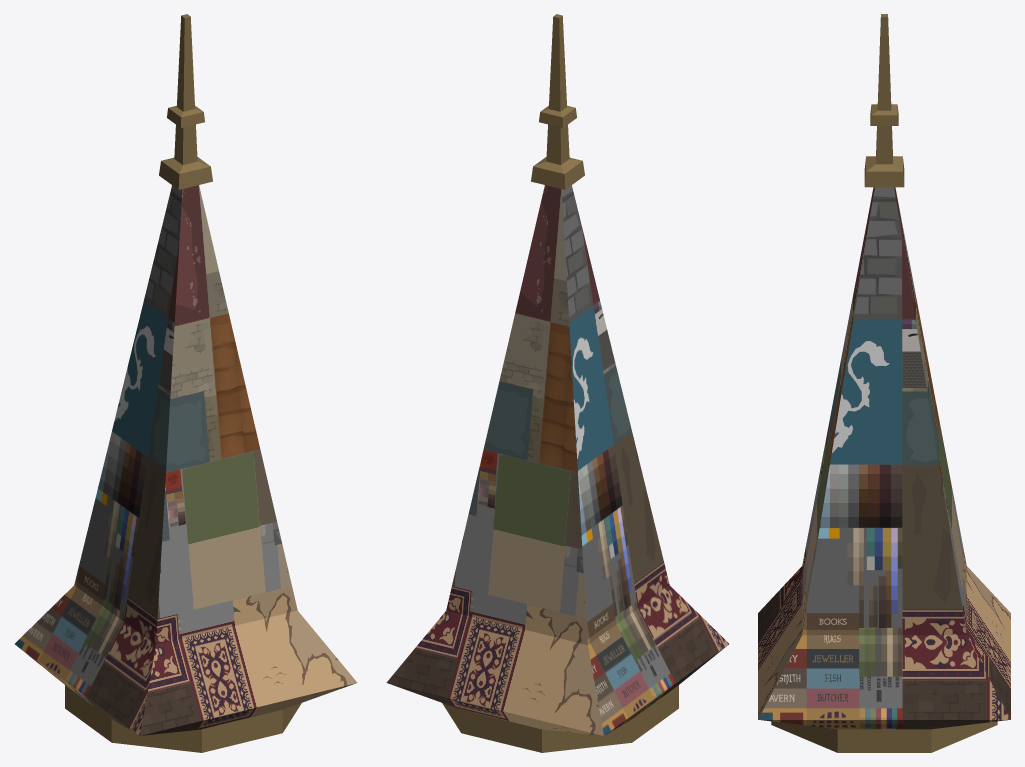
File: kingdom_SM_Bld_Castle_Roof_Cap_Round_05.gltf
The picture shows the model from 3 angles, left to right: view 1: azimuth 30°, elevation 25°; view 2: azimuth 150°, elevation 25°; view 3: azimuth 270°, elevation 25°; orthographic projection.
Parts seen in each view (by area): view 1: SM_Bld_Castle_Roof_Cap_Round_05; view 2: SM_Bld_Castle_Roof_Cap_Round_05; view 3: SM_Bld_Castle_Roof_Cap_Round_05.
Part boxes in pixels (<box>): SM_Bld_Castle_Roof_Cap_Round_05: <box>15,14,357,752</box>; SM_Bld_Castle_Roof_Cap_Round_05: <box>386,14,728,752</box>; SM_Bld_Castle_Roof_Cap_Round_05: <box>758,14,1010,752</box>.
Size of the model in its own units: 2.28 by 6.87 by 2.28.
Materials: 2 (2 with a texture image).
